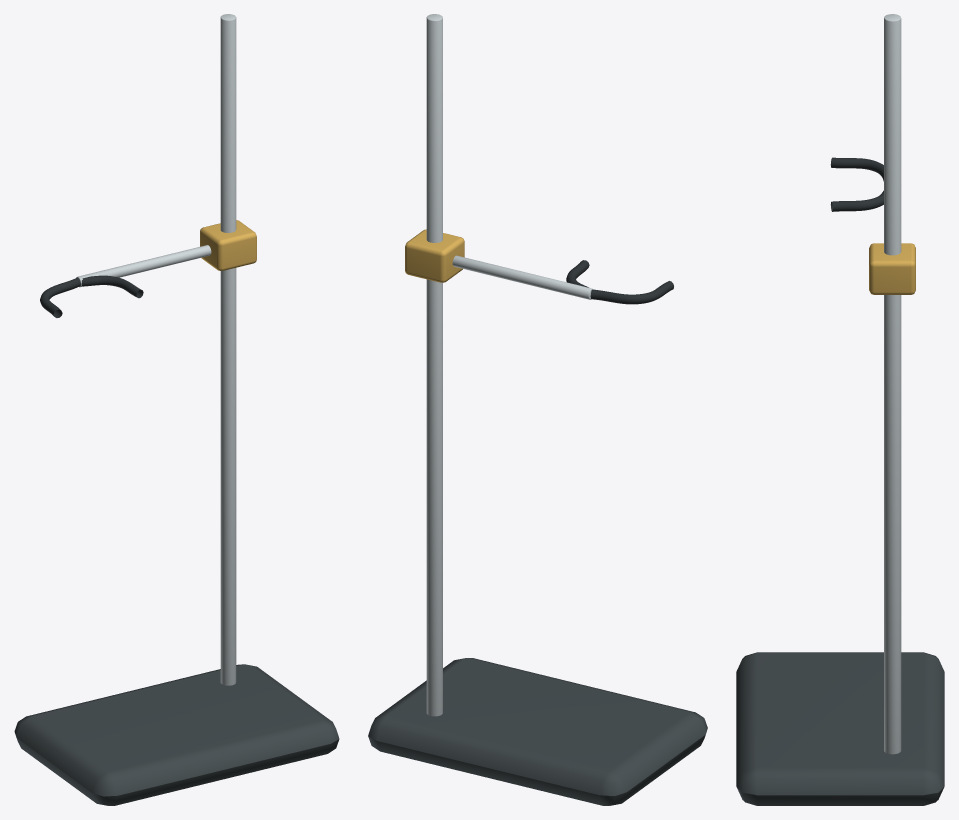
File: retort-stand.glb
The picture shows the model from 3 angles, left to right: view 1: azimuth 30°, elevation 25°; view 2: azimuth 150°, elevation 25°; view 3: azimuth 270°, elevation 25°; orthographic projection. The views are drawn at different scales.
Parts seen in each view (by area): view 1: Retort stand base.001, Retort upright.001, Boss head.001, Clamp arm.001, Clamp jaw.003, Clamp jaw.002; view 2: Retort stand base.001, Retort upright.001, Boss head.001, Clamp arm.001, Clamp jaw.002; view 3: Retort stand base.001, Retort upright.001, Boss head.001, Clamp jaw.002, Clamp jaw.003.
Boxes of the visible parts, x1,y1,x2,y2 form: Retort stand base.001: (14,664,339,805); Retort upright.001: (220,14,236,685); Boss head.001: (200,220,256,270); Clamp arm.001: (76,245,211,287); Clamp jaw.003: (79,275,143,298); Clamp jaw.002: (40,277,80,317); Retort stand base.001: (368,658,707,805); Retort upright.001: (426,14,442,716); Boss head.001: (405,229,464,282); Clamp arm.001: (452,255,593,299); Clamp jaw.002: (590,281,673,304); Retort stand base.001: (736,652,944,805); Retort upright.001: (884,14,901,754); Boss head.001: (869,243,915,294); Clamp jaw.002: (830,157,883,181); Clamp jaw.003: (830,190,883,211).
Bounding box in the file's own units: 0.1829 × 0.49 × 0.12.
